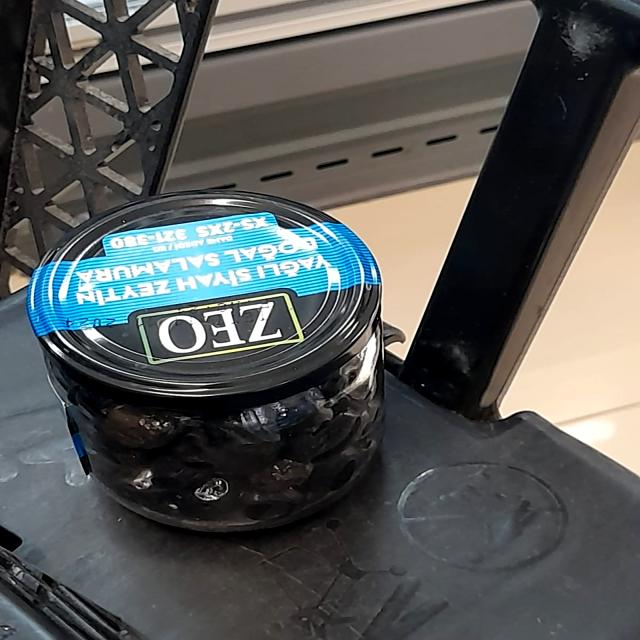olive: (28, 204, 425, 534)
